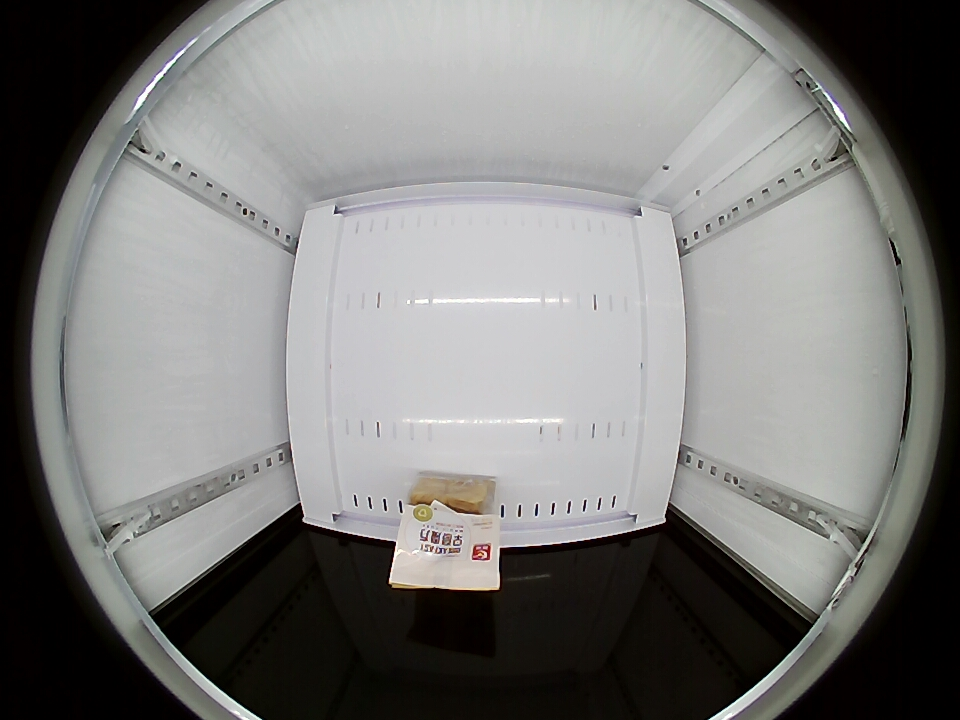zaocanmofang: (391, 488, 501, 592)
